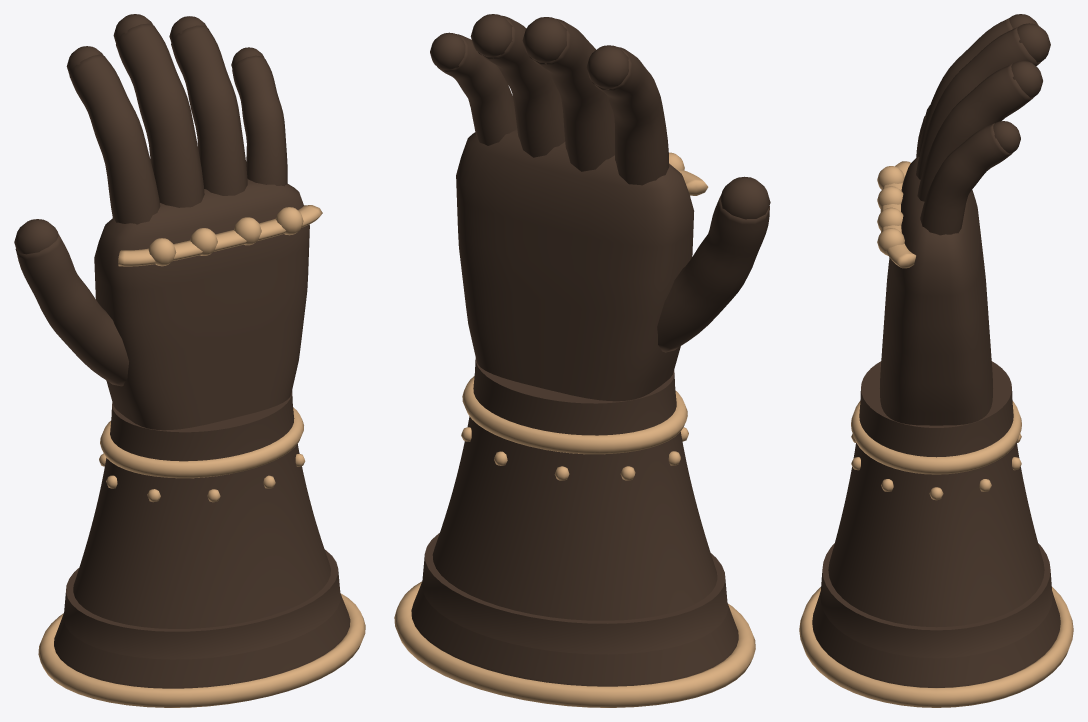
File: gloves_power_common.glb
The picture shows the model from 3 angles, left to right: view 1: azimuth 30°, elevation 25°; view 2: azimuth 150°, elevation 25°; view 3: azimuth 270°, elevation 25°; orthographic projection. The views are drawn at different scales.
Visible parts, largest first — view 1: gloves_power_common; view 2: gloves_power_common; view 3: gloves_power_common.
Boxes of the visible parts, x1,y1,x2,y2 form: gloves_power_common: (14,14,365,707); gloves_power_common: (394,14,770,707); gloves_power_common: (799,14,1073,707).
Bounding box in the file's own units: 1.6 × 2.82 × 1.16.
